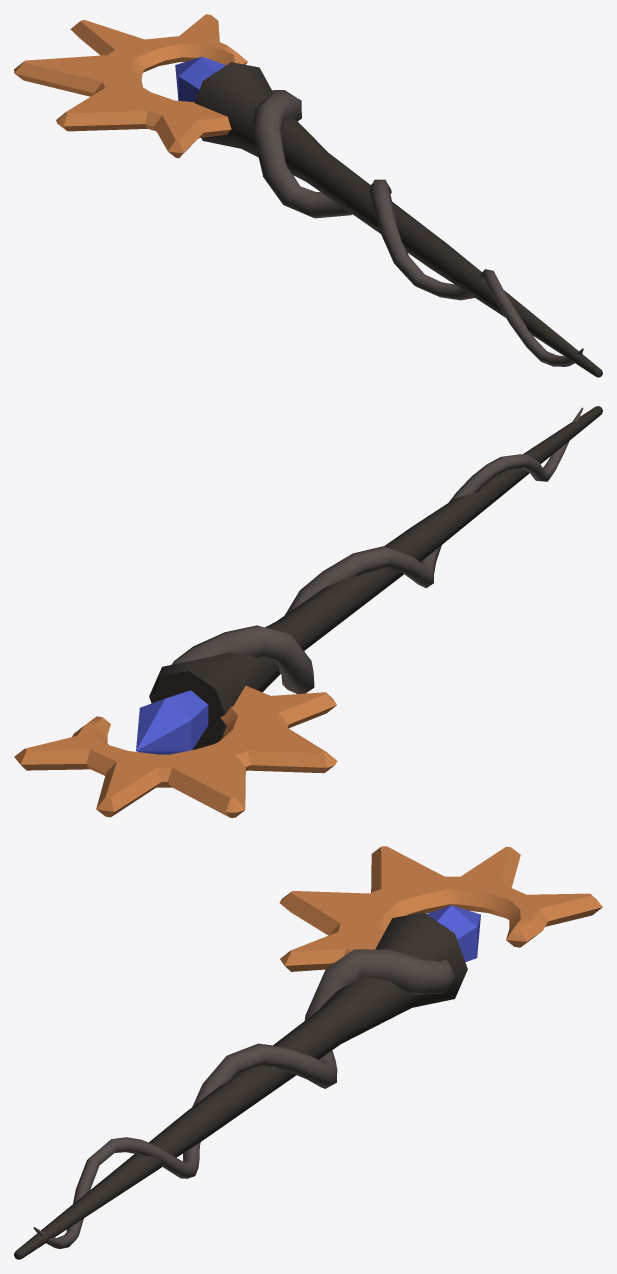
Rendered from Wand_04.fbx.
The picture shows the model from 3 angles, top to bottom: view 1: azimuth 30°, elevation 25°; view 2: azimuth 150°, elevation 25°; view 3: azimuth 330°, elevation 25°; orthographic projection. The views are drawn at different scales.
Visible parts, largest first — view 1: Wand_04; view 2: Wand_04; view 3: Wand_04.
Part boxes in pixels (bbox=[...]): Wand_04: bbox=[14, 14, 602, 377]; Wand_04: bbox=[14, 406, 602, 817]; Wand_04: bbox=[14, 846, 602, 1259].
Size of the model in its own units: 0.0957 by 0.0365 by 0.3566.
